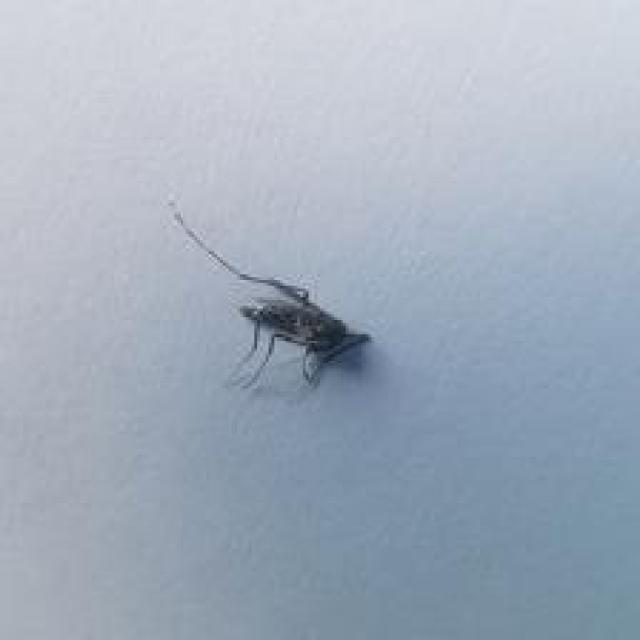Aedes albopictus: (166, 197, 371, 392)
